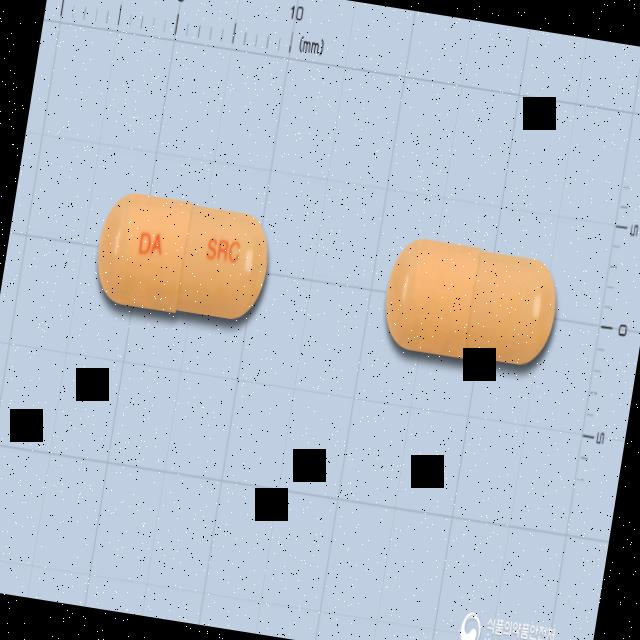Suprax Cap- Dong-A: (88, 186, 277, 328)
